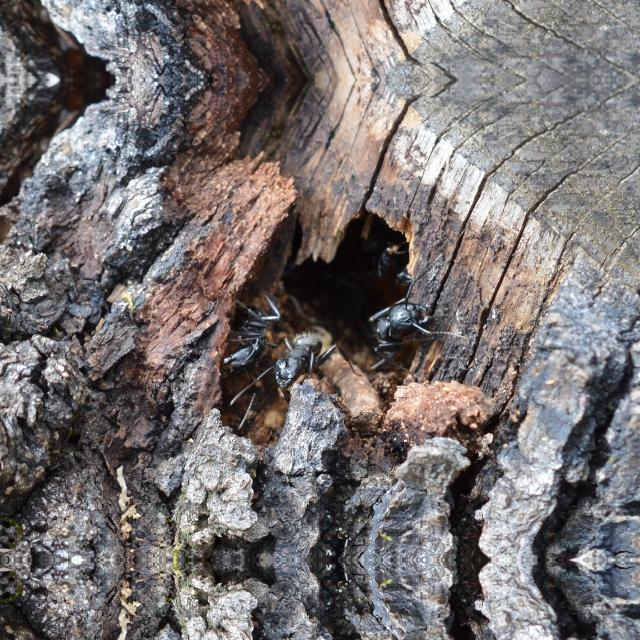Camponotus: (354, 276, 464, 386), (210, 285, 286, 385), (256, 310, 332, 400)
